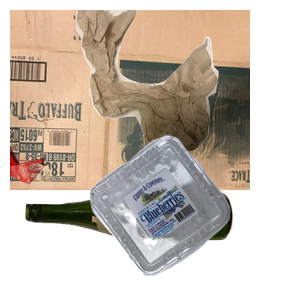cardboard: (10, 10, 250, 190)
glass: (23, 186, 249, 300)
plastic: (88, 133, 300, 300)
trash: (73, 10, 300, 163)
